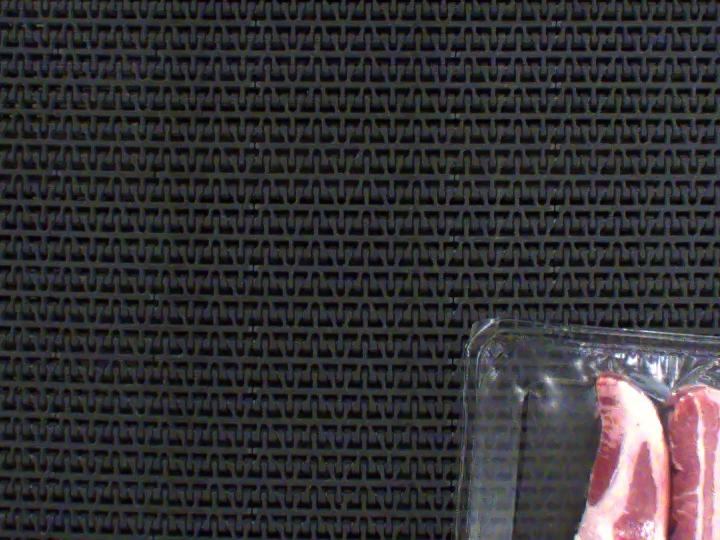unsealed: (543, 342, 720, 472)
